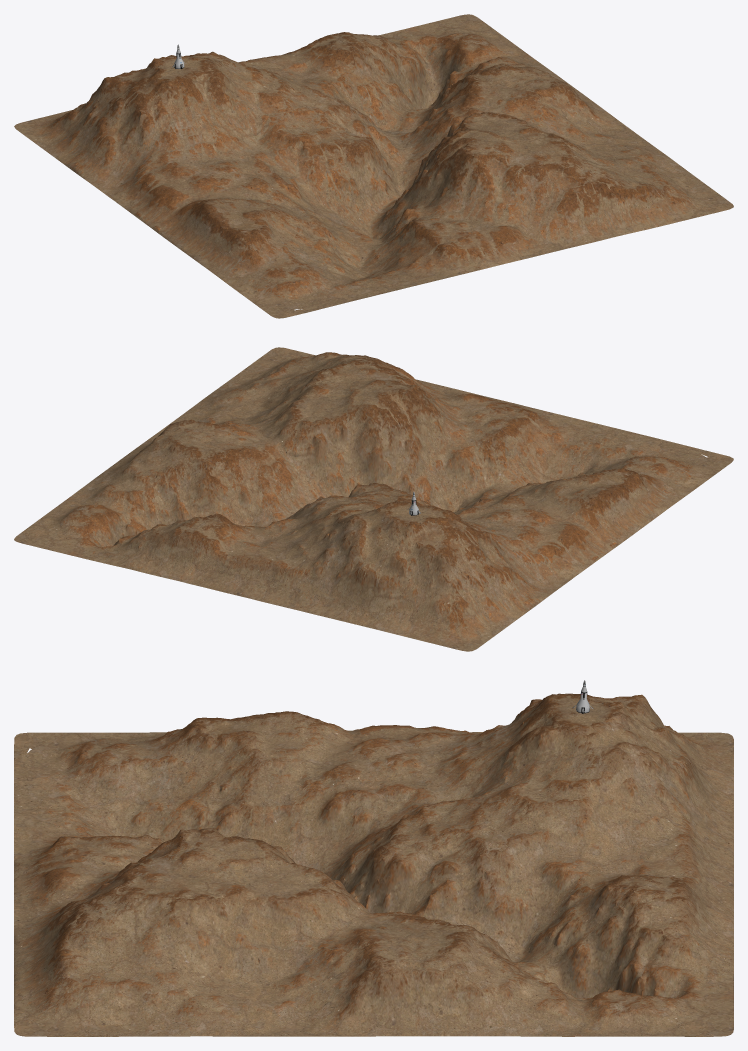
The model's file is mars-land.glb.
3 renders of one model, top to bottom at view 1: azimuth 30°, elevation 25°; view 2: azimuth 150°, elevation 25°; view 3: azimuth 270°, elevation 25°, orthographic. The views are drawn at different scales.
Parts seen in each view (by area): view 1: mars_mars_0; view 2: mars_mars_0; view 3: mars_mars_0.
Part boxes in pixels (x1,y1,x2,y2): mars_mars_0: (14, 14, 733, 318); mars_mars_0: (14, 347, 733, 651); mars_mars_0: (14, 693, 733, 1036).
Size of the model in its own units: 12.59 by 3.61 by 12.6.
Materials: 2 (2 with a texture image).
